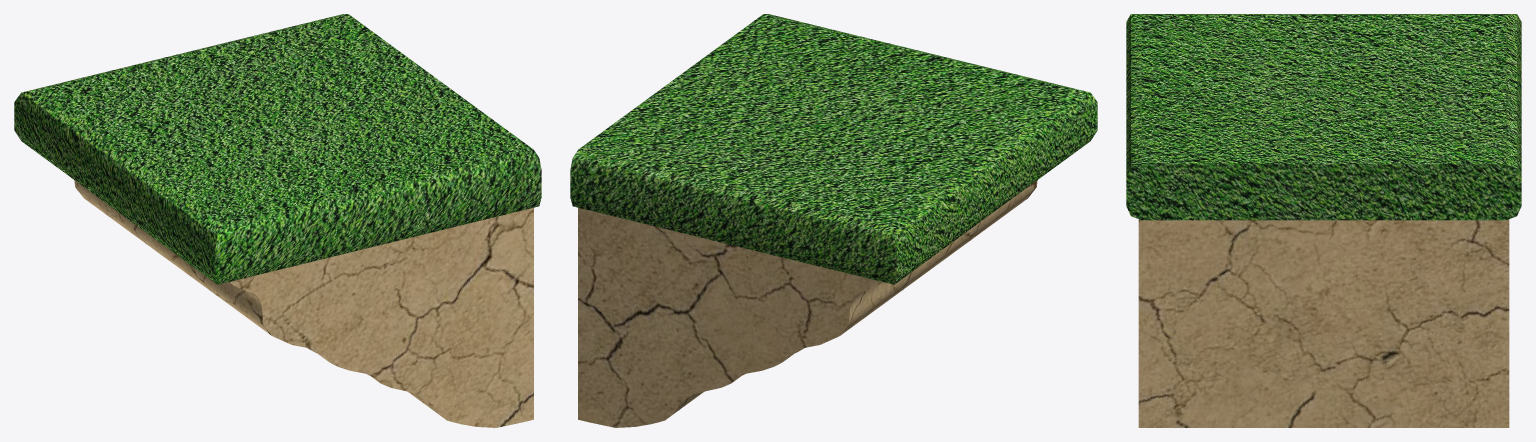
Rendered from curvaFinal.fbx.
3 renders of one model, left to right at view 1: azimuth 30°, elevation 25°; view 2: azimuth 150°, elevation 25°; view 3: azimuth 270°, elevation 25°, orthographic.
Visible parts, largest first — view 1: tapaPlataformaFinalCurva, plataformaCurva; view 2: tapaPlataformaFinalCurva, plataformaCurva; view 3: tapaPlataformaFinalCurva, plataformaCurva.
Boxes of the visible parts, x1,y1,x2,y2 form: tapaPlataformaFinalCurva: (14, 14, 541, 284); plataformaCurva: (74, 180, 533, 427); tapaPlataformaFinalCurva: (570, 14, 1097, 284); plataformaCurva: (578, 180, 1037, 427); tapaPlataformaFinalCurva: (1126, 14, 1521, 220); plataformaCurva: (1138, 219, 1509, 427).
Bounding box in the file's own units: 3 × 2.36 × 3.2.
